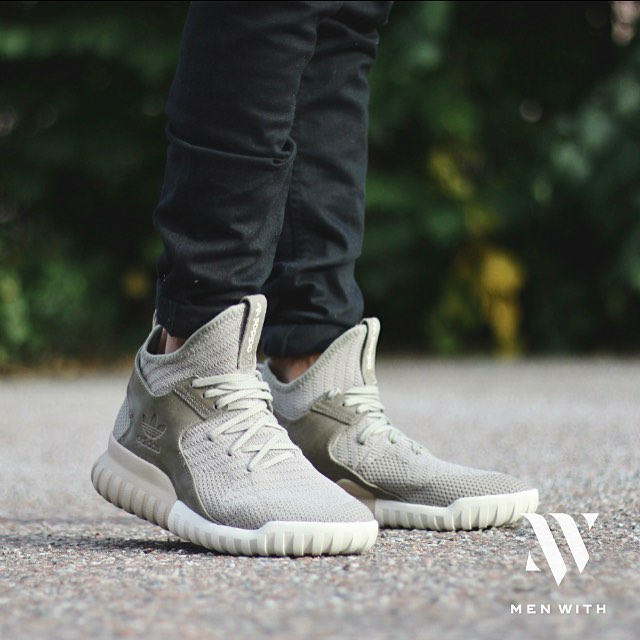sneaker: (78, 280, 393, 573), (236, 294, 551, 543)
